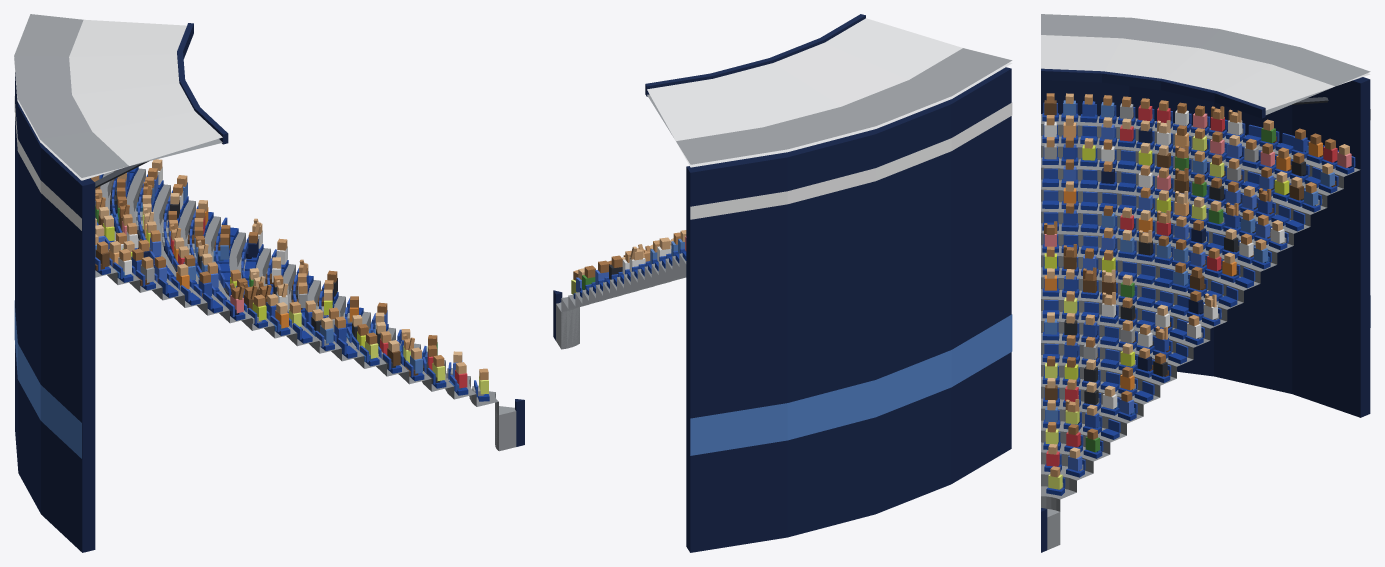
The model's file is StandCorner_0.glb.
3 renders of one model, left to right at view 1: azimuth 30°, elevation 25°; view 2: azimuth 150°, elevation 25°; view 3: azimuth 270°, elevation 25°, orthographic. The views are drawn at different scales.
Visible parts, largest first — view 1: StandCorner_0; view 2: StandCorner_0; view 3: StandCorner_0.
Boxes of the visible parts, x1,y1,x2,y2 form: StandCorner_0: (14,14,524,552); StandCorner_0: (553,14,1012,552); StandCorner_0: (1041,14,1370,552).
Bounding box in the file's own units: 51.4 × 42.55 × 36.35.
Materials: 1 (1 with a texture image).
